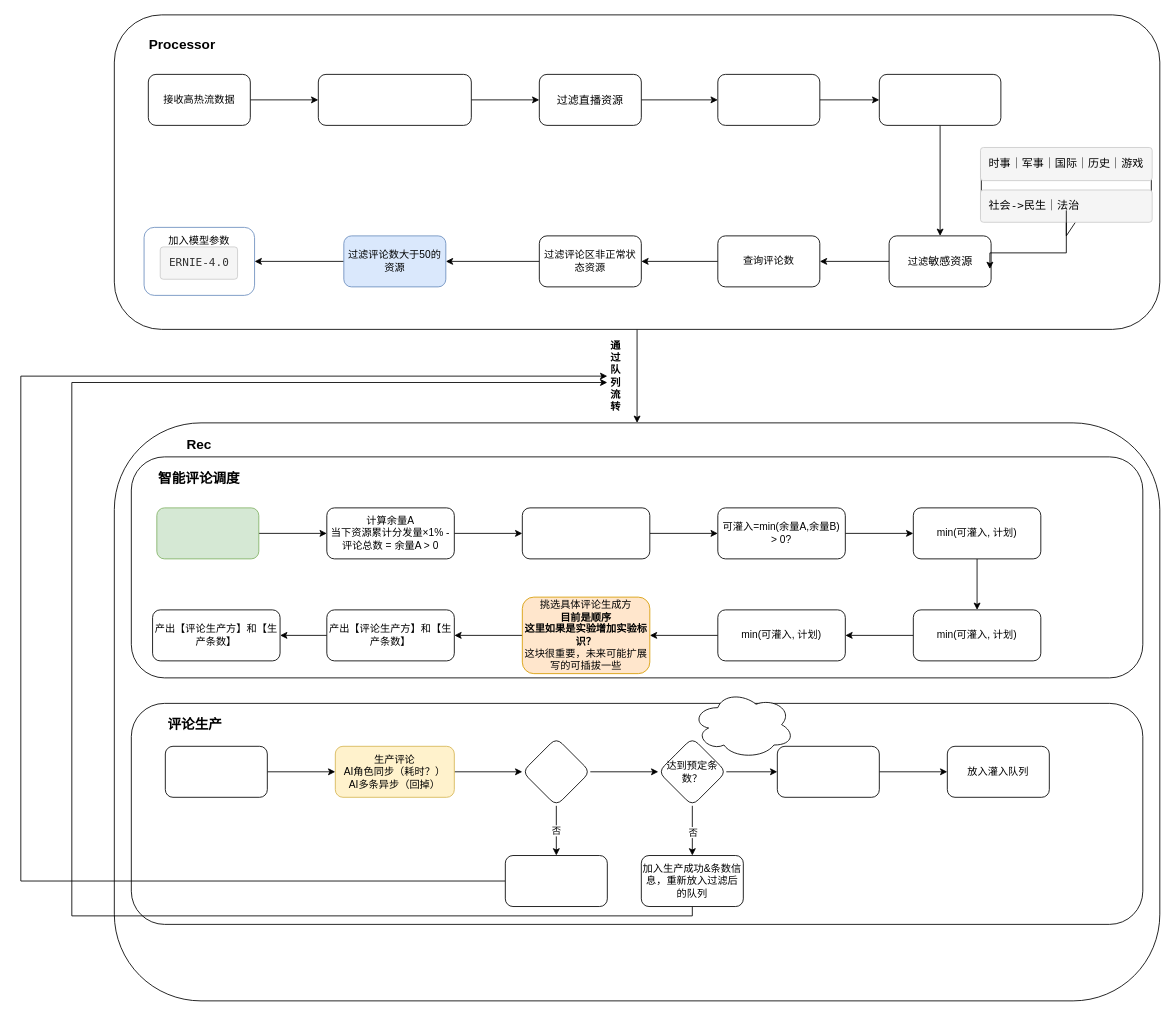
Some shapes in this 1175 by 1016 pixel diagram are drawn without their labels. The shapes that lost their labels are listed below. From the top down, each one's centre as x and y in pixels, then its label:
At (394,99): "过滤掉广告｜ 小程序等资源".
At (768,99): "过滤 置顶资源".
At (939,99): "过滤无threaed_id资源".
At (207,533): "判断触发时机 这里有几种情况？ 下划线切割后取最后一个就可以吗".
At (585,533): "计算余量A 当下资源用户评论数 - 当下资源灌评数 = 余量B > 0".
At (742,724): "这里如果实验生产的条数不够如何处理？".
At (215,771): "进行一系列过滤or动作".
At (555,771): "生产成功？".
At (827,771): "画风检查 （未来加入） 耗时？".
At (555,881): "加入该评论生产方生产失败信息，重新放入过滤后的队列".
